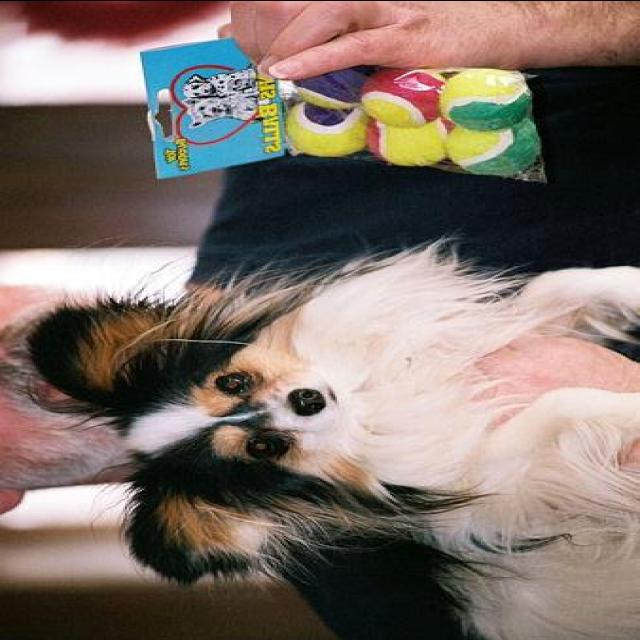papillon: (22, 237, 638, 639)
